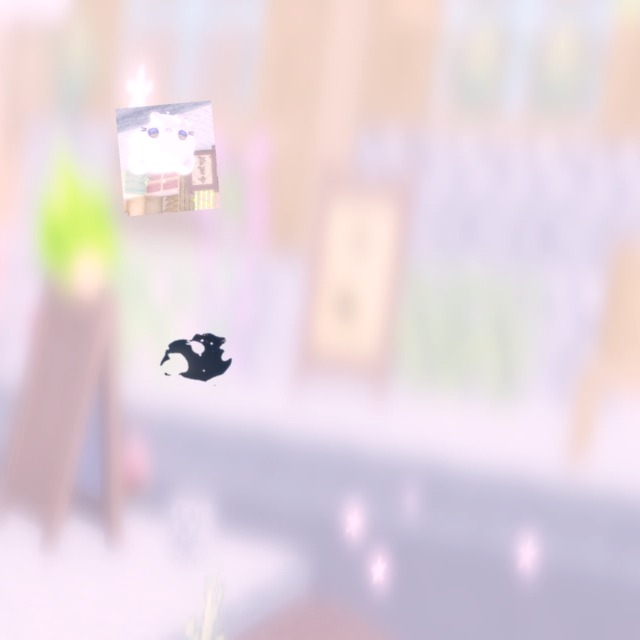urso_branco: (115, 100, 221, 217)
urso_preto: (149, 323, 245, 393)
